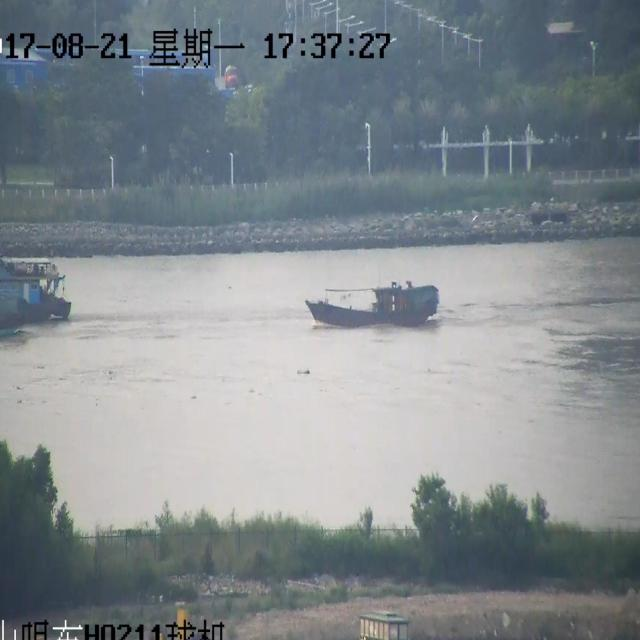cargoship: (0, 246, 111, 334)
fishing boat: (296, 267, 443, 349)
